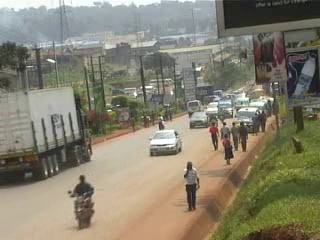Car: (146, 128, 184, 157), (188, 109, 213, 130), (204, 99, 220, 116)
Motorcycle: (66, 185, 96, 233), (216, 108, 227, 122)
